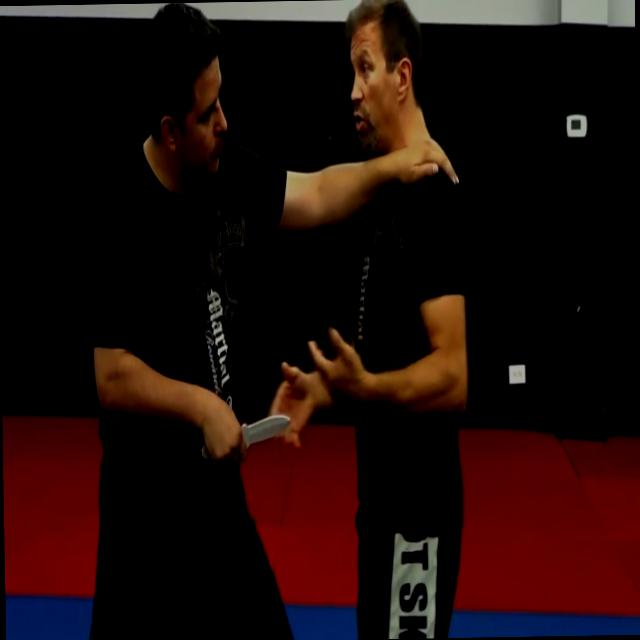knife: (196, 408, 294, 468)
